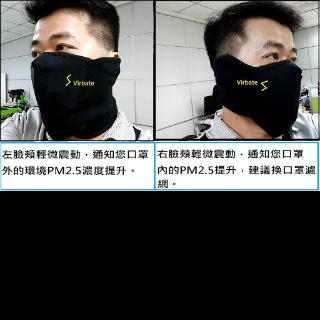with_mask: (30, 27, 115, 128), (236, 38, 300, 128)
